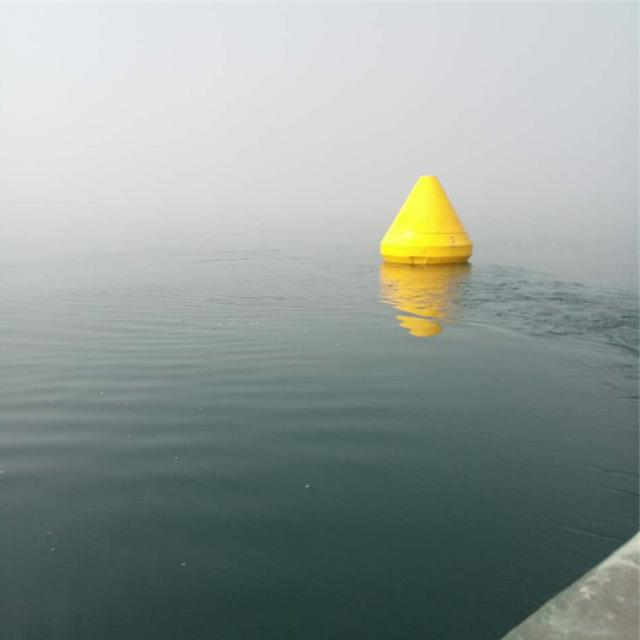buoy: (377, 172, 477, 264)
